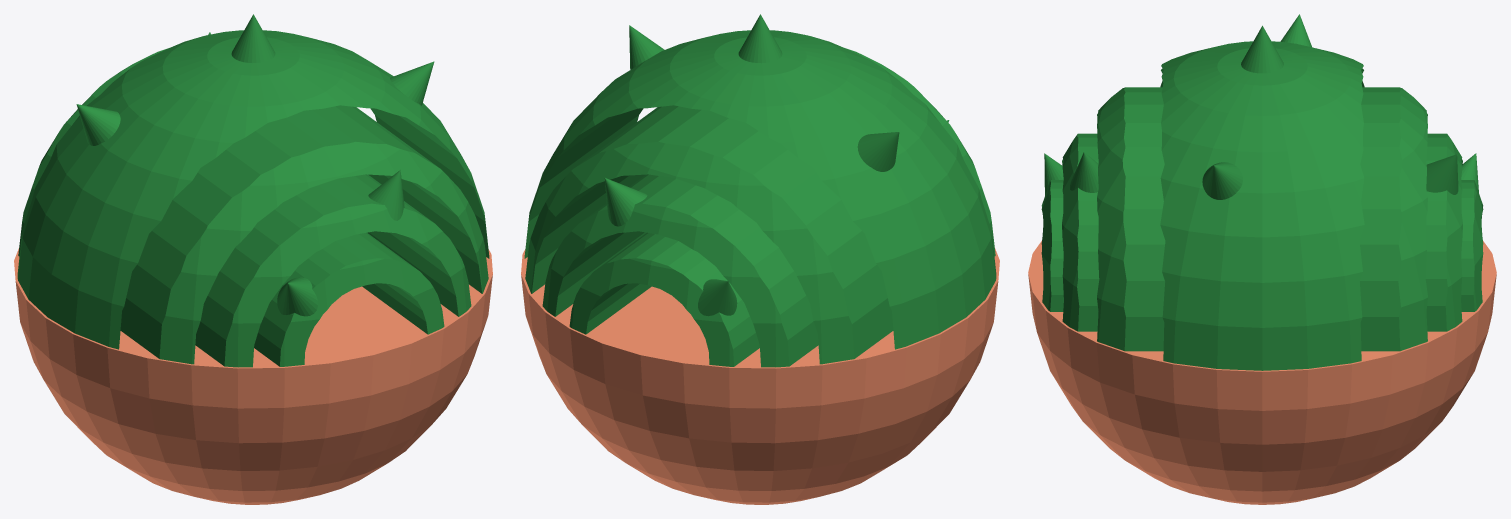
Rendered from cacto.glb.
3 renders of one model, left to right at view 1: azimuth 30°, elevation 25°; view 2: azimuth 150°, elevation 25°; view 3: azimuth 270°, elevation 25°, orthographic. The views are drawn at different scales.
Visible parts, largest first — view 1: Sphere, Sphere.001, Cone.005, Cone, Cone.001, Cone.002, Cone.004; view 2: Sphere, Sphere.001, Cone.001, Cone, Cone.003, Cone.007, Cone.002; view 3: Sphere, Sphere.001, Cone.002, Cone, Cone.003, Cone.004, Cone.001.
Part boxes in pixels (x1,y1,x2,y2): Sphere: [17, 30, 489, 367]; Sphere.001: [14, 247, 492, 504]; Cone.005: [277, 277, 317, 316]; Cone: [231, 14, 275, 63]; Cone.001: [76, 104, 120, 145]; Cone.002: [390, 61, 434, 105]; Cone.004: [368, 170, 404, 220]; Sphere: [524, 30, 996, 367]; Sphere.001: [521, 247, 999, 504]; Cone.001: [857, 132, 899, 171]; Cone: [738, 14, 782, 63]; Cone.003: [604, 178, 647, 226]; Cone.007: [698, 279, 737, 316]; Cone.002: [629, 25, 664, 69]; Sphere: [1041, 41, 1483, 370]; Sphere.001: [1028, 241, 1496, 504]; Cone.002: [1202, 162, 1242, 199]; Cone: [1241, 25, 1283, 73]; Cone.003: [1426, 154, 1458, 194]; Cone.004: [1070, 152, 1098, 192]; Cone.001: [1280, 14, 1311, 47].
Bounding box in the file's own units: 2.02 × 2.18 × 2.02.
